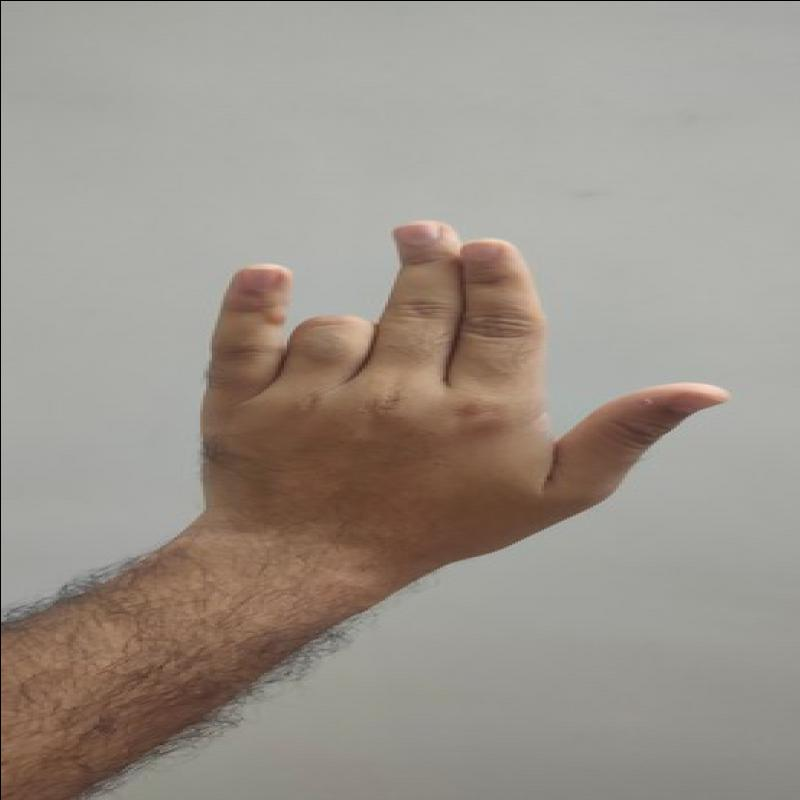Pathaaka: (189, 203, 740, 559)
